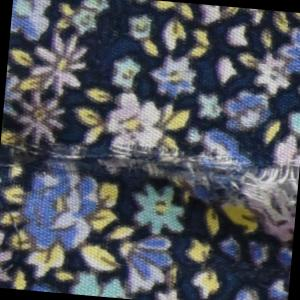Damage: (1, 125, 300, 231)
